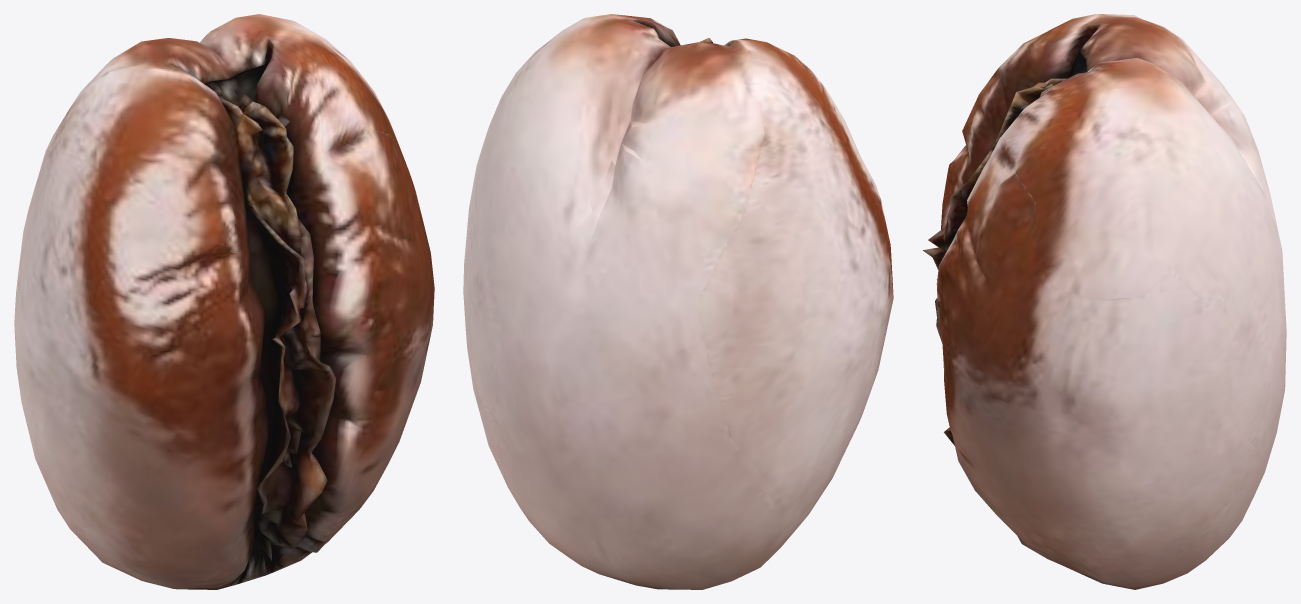
Rendered from bean.glb.
3 renders of one model, left to right at view 1: azimuth 30°, elevation 25°; view 2: azimuth 150°, elevation 25°; view 3: azimuth 270°, elevation 25°, orthographic. The views are drawn at different scales.
Parts seen in each view (by area): view 1: model; view 2: model; view 3: model.
Boxes of the visible parts, x1,y1,x2,y2 form: model: [14, 14, 434, 589]; model: [463, 14, 893, 589]; model: [923, 14, 1286, 589].
Size of the model in its own units: 1.34 by 1.9 by 1.19.
Materials: 1 (1 with a texture image).
